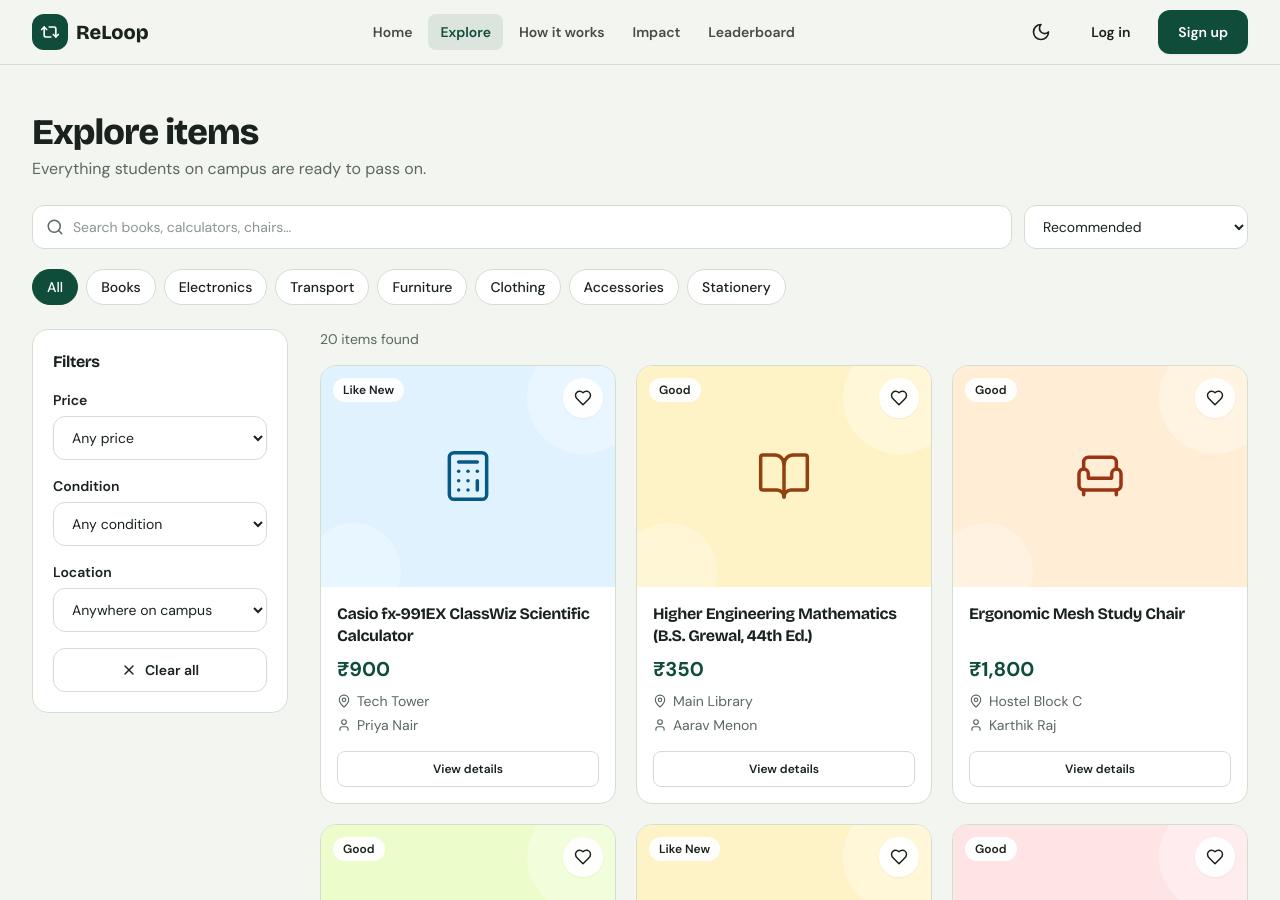
Explore search, filters and sorting › shows an empty state when nothing matches
Type "zzzzqx" into the search field named "Search items" at x=522, y=227, box [32, 205, 1012, 249]
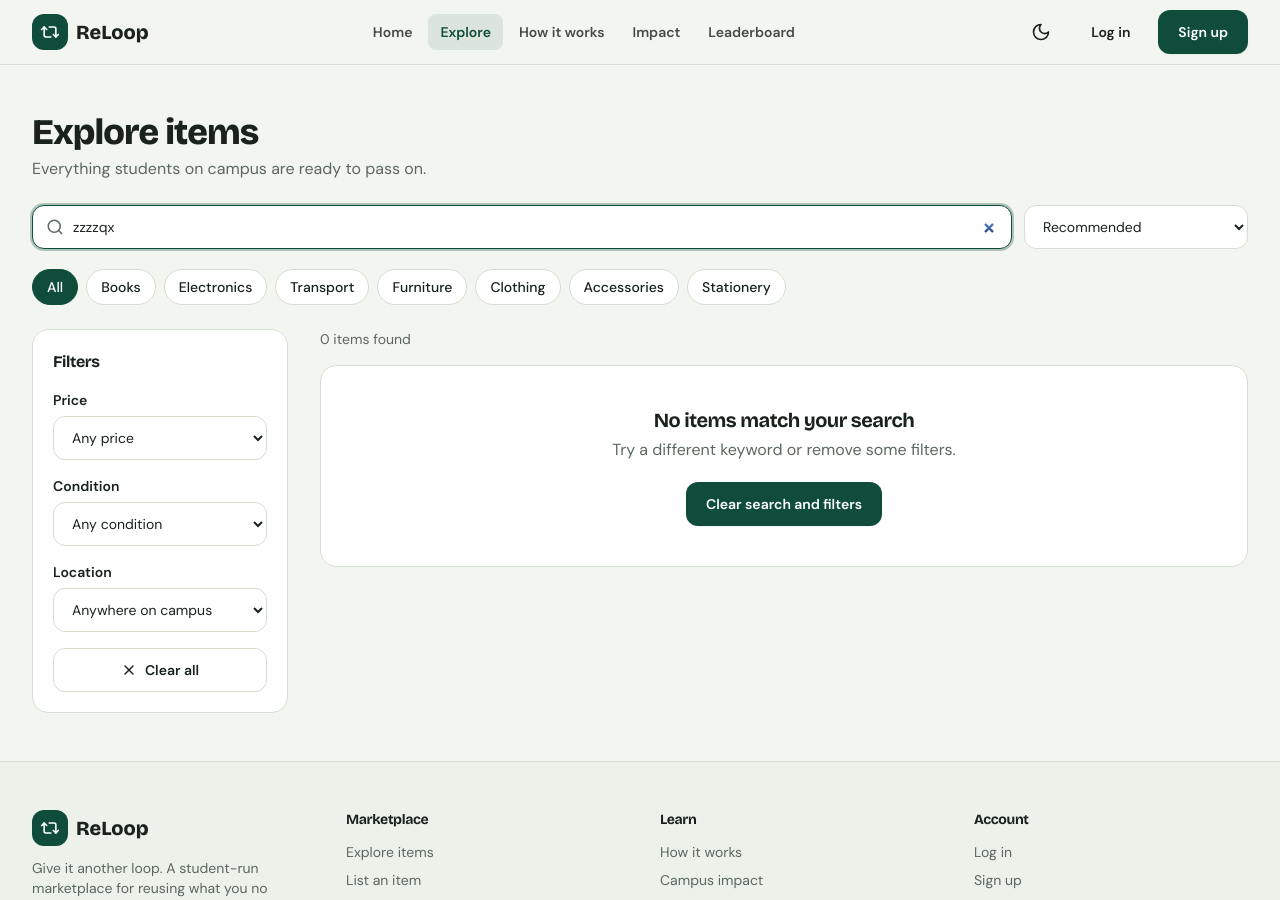
Expected: the heading "No items match your search" is shown, [654, 408, 914, 432]
